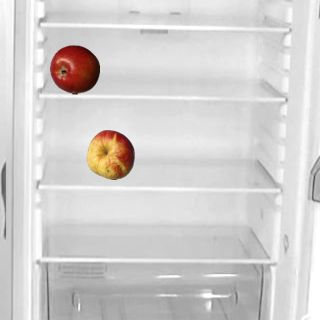Apple Braeburn: (49, 44, 99, 94)
Apple Red Yellow 1: (85, 129, 135, 179)
